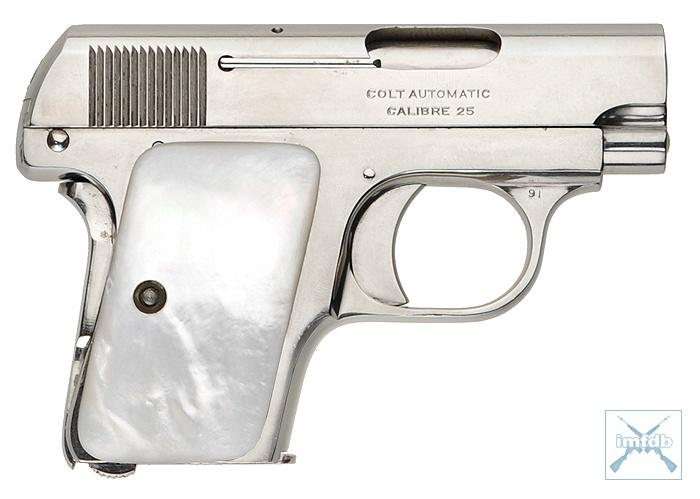gun: (9, 6, 680, 459)
